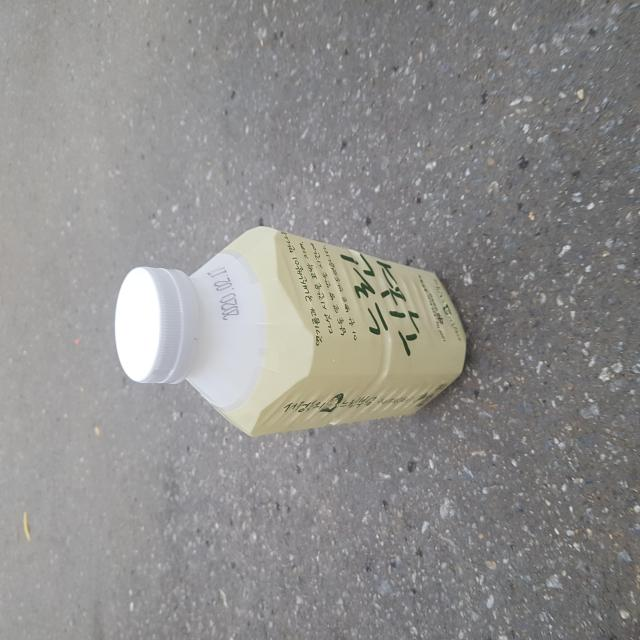bottle: (111, 218, 469, 452)
